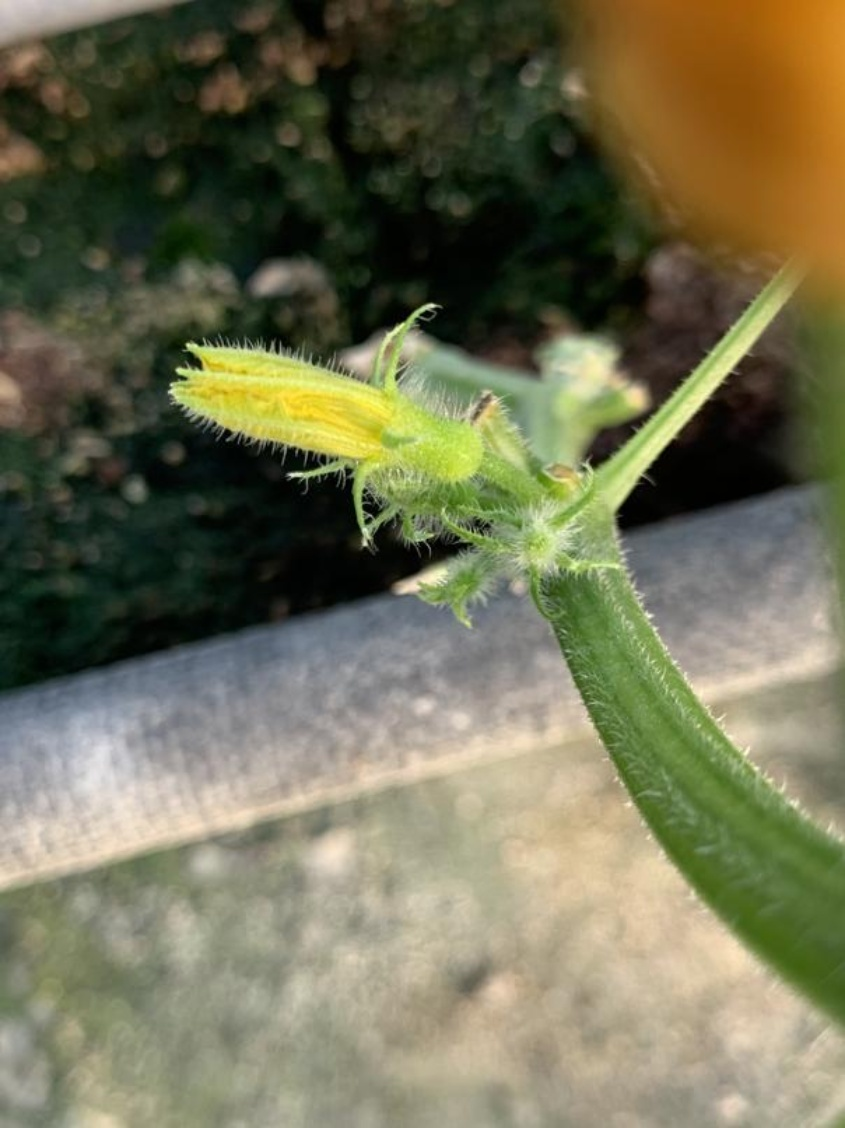bud: (164, 316, 525, 508)
